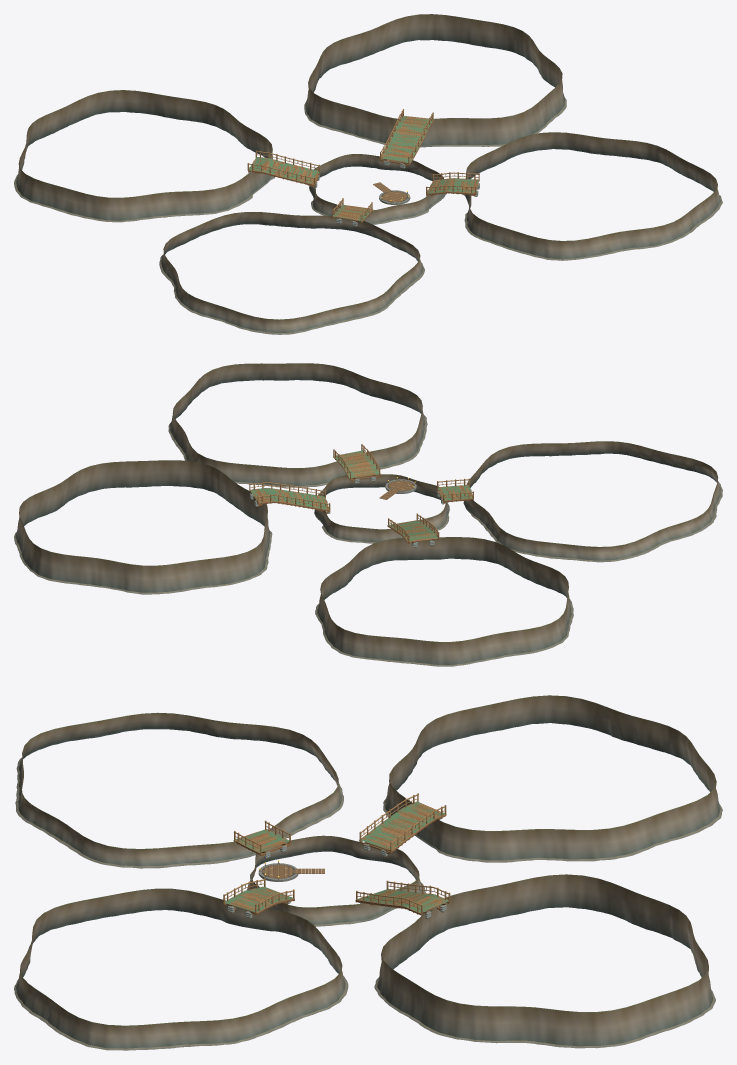
Rendered from grade1-landscape-details-v4.glb.
The picture shows the model from 3 angles, top to bottom: view 1: azimuth 30°, elevation 25°; view 2: azimuth 150°, elevation 25°; view 3: azimuth 270°, elevation 25°; orthographic projection. The views are drawn at different scales.
Visible parts, largest first — view 1: CoastV4_habitat-4_RockSection, CoastV4_habitat-3_RockSection, CoastV4_habitat-2_RockSection, CoastV4_habitat-1_RockSection, CoastV4_arrival_RockSection, Walk_BridgeV4_habitat-4_ContinuousProxy, CoastV4_habitat-1_WetShore, CoastV4_habitat-2_WetShore, CoastV4_habitat-3_WetShore, Walk_BridgeV4_habitat-3_ContinuousProxy, CoastV4_habitat-4_WetShore, BridgeV4_habitat-3_structure_V4_honey_rail; view 2: CoastV4_habitat-4_RockSection, CoastV4_habitat-3_RockSection, CoastV4_habitat-2_RockSection, CoastV4_habitat-1_RockSection, CoastV4_arrival_RockSection, CoastV4_habitat-3_WetShore, CoastV4_habitat-4_WetShore, CoastV4_habitat-1_WetShore, Walk_BridgeV4_habitat-4_ContinuousProxy, BridgeV4_habitat-4_structure_V4_honey_rail, Walk_BridgeV4_habitat-2_ContinuousProxy, CoastV4_habitat-2_WetShore (+1 smaller); view 3: CoastV4_habitat-4_RockSection, CoastV4_habitat-3_RockSection, CoastV4_habitat-2_RockSection, CoastV4_habitat-1_RockSection, CoastV4_arrival_RockSection, CoastV4_habitat-2_WetShore, Walk_BridgeV4_habitat-3_ContinuousProxy, CoastV4_habitat-1_WetShore, CoastV4_habitat-4_WetShore, CoastV4_habitat-3_WetShore, Walk_BridgeV4_habitat-4_ContinuousProxy, BridgeV4_habitat-4_structure_V4_honey_rail (+2 smaller).
Boxes of the visible parts, box(x1,y1,x2,y2) form: CoastV4_habitat-4_RockSection: box(305, 14, 564, 147); CoastV4_habitat-3_RockSection: box(16, 90, 273, 220); CoastV4_habitat-2_RockSection: box(465, 132, 720, 259); CoastV4_habitat-1_RockSection: box(161, 212, 423, 332); CoastV4_arrival_RockSection: box(309, 154, 444, 224); Walk_BridgeV4_habitat-4_ContinuousProxy: box(381, 116, 433, 162); CoastV4_habitat-1_WetShore: box(159, 227, 424, 334); CoastV4_habitat-2_WetShore: box(463, 194, 722, 260); CoastV4_habitat-3_WetShore: box(14, 174, 275, 222); Walk_BridgeV4_habitat-3_ContinuousProxy: box(249, 157, 318, 183); CoastV4_habitat-4_WetShore: box(304, 75, 566, 146); BridgeV4_habitat-3_structure_V4_honey_rail: box(247, 151, 319, 184); CoastV4_habitat-4_RockSection: box(16, 460, 270, 592); CoastV4_habitat-3_RockSection: box(317, 537, 571, 664); CoastV4_habitat-2_RockSection: box(170, 363, 425, 485); CoastV4_habitat-1_RockSection: box(464, 441, 720, 560); CoastV4_arrival_RockSection: box(315, 474, 449, 542); CoastV4_habitat-3_WetShore: box(315, 558, 573, 666); CoastV4_habitat-4_WetShore: box(14, 516, 272, 594); CoastV4_habitat-1_WetShore: box(463, 454, 722, 562); Walk_BridgeV4_habitat-4_ContinuousProxy: box(250, 488, 328, 509); BridgeV4_habitat-4_structure_V4_honey_rail: box(249, 482, 330, 510); Walk_BridgeV4_habitat-2_ContinuousProxy: box(333, 450, 379, 478); CoastV4_habitat-2_WetShore: box(168, 393, 427, 487); CoastV4_habitat-4_RockSection: box(377, 874, 712, 1046); CoastV4_habitat-3_RockSection: box(385, 695, 720, 860); CoastV4_habitat-2_RockSection: box(16, 888, 345, 1048); CoastV4_habitat-1_RockSection: box(18, 712, 341, 866); CoastV4_arrival_RockSection: box(250, 835, 422, 924); CoastV4_habitat-2_WetShore: box(14, 928, 348, 1050); Walk_BridgeV4_habitat-3_ContinuousProxy: box(361, 802, 445, 849); CoastV4_habitat-1_WetShore: box(15, 757, 343, 868); CoastV4_habitat-4_WetShore: box(374, 932, 715, 1048); CoastV4_habitat-3_WetShore: box(383, 799, 722, 862); Walk_BridgeV4_habitat-4_ContinuousProxy: box(357, 889, 448, 912); BridgeV4_habitat-4_structure_V4_honey_rail: box(356, 881, 450, 914).
Size of the model in its own units: 103 by 6.36 by 94.19.
